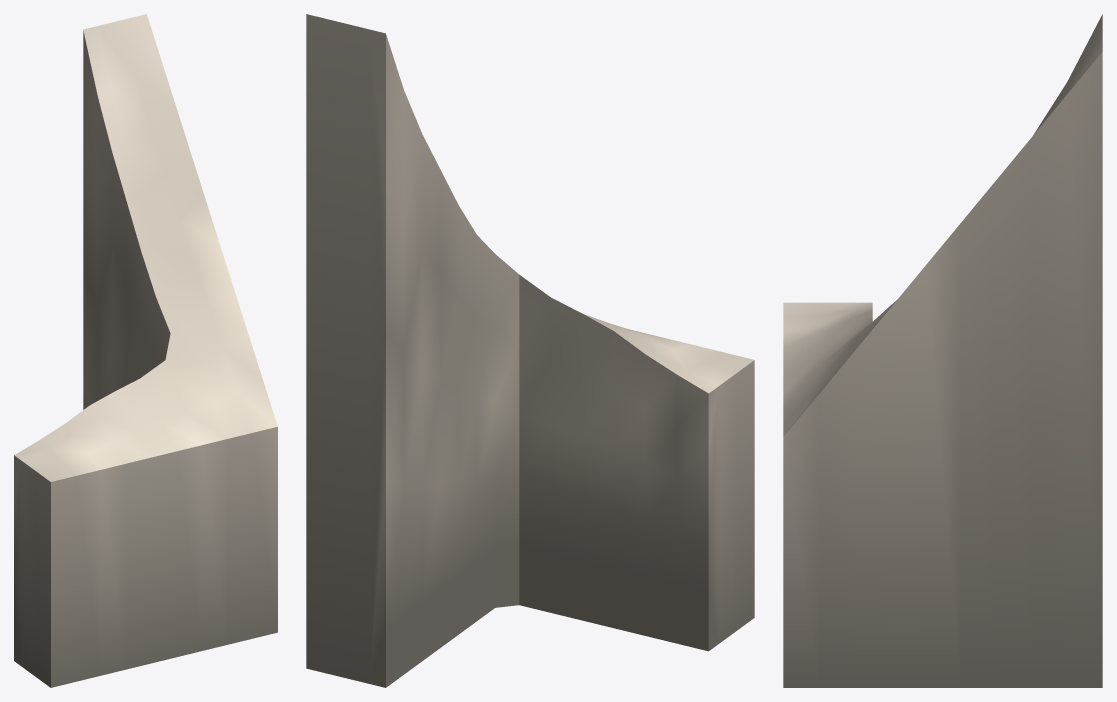
Rendered from SM_VKI_Rock_Cave_CCFO_WallN.fbx.
3 views of the same model, side by side, from view 1: azimuth 30°, elevation 25°; view 2: azimuth 150°, elevation 25°; view 3: azimuth 270°, elevation 25° (orthographic). The views are drawn at different scales.
Parts seen in each view (by area): view 1: SM_VKI_Rock_Cave_CCFO_WallN.001; view 2: SM_VKI_Rock_Cave_CCFO_WallN.001; view 3: SM_VKI_Rock_Cave_CCFO_WallN.001.
Part boxes in pixels (box(x1,y1,x2,y2)): SM_VKI_Rock_Cave_CCFO_WallN.001: box(14, 14, 277, 687); SM_VKI_Rock_Cave_CCFO_WallN.001: box(306, 14, 754, 687); SM_VKI_Rock_Cave_CCFO_WallN.001: box(783, 14, 1102, 687).
Bounding box in the file's own units: 1.5 × 3.3 × 1.5.
